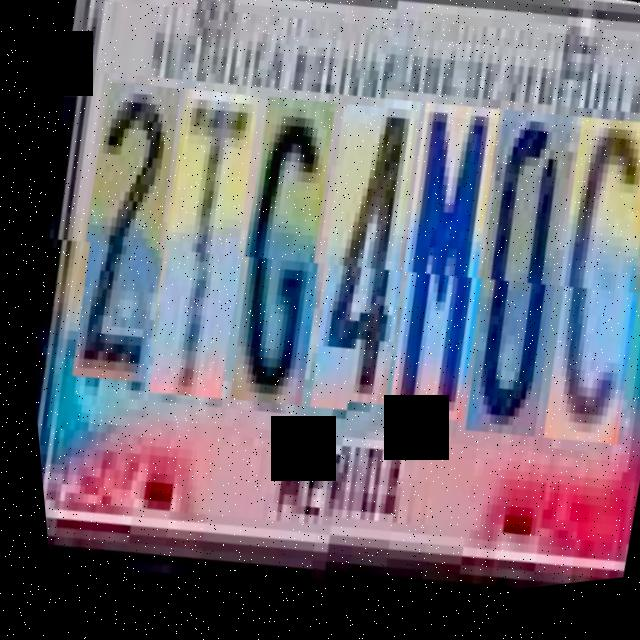0: (419, 126, 601, 472)
2: (33, 74, 210, 396)
4: (268, 106, 448, 435)
C: (496, 135, 640, 483)
G: (190, 96, 366, 424)
M: (343, 115, 527, 454)
T: (108, 84, 288, 414)
